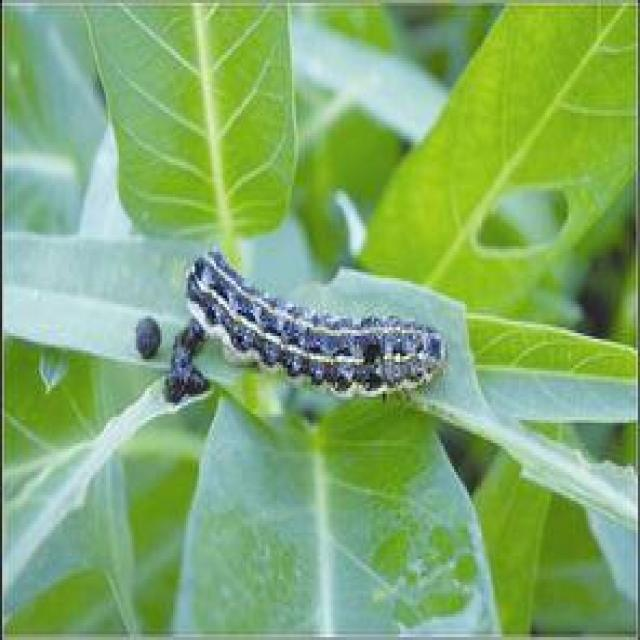BeetArmyWorm-Larva-: (174, 244, 461, 406)
